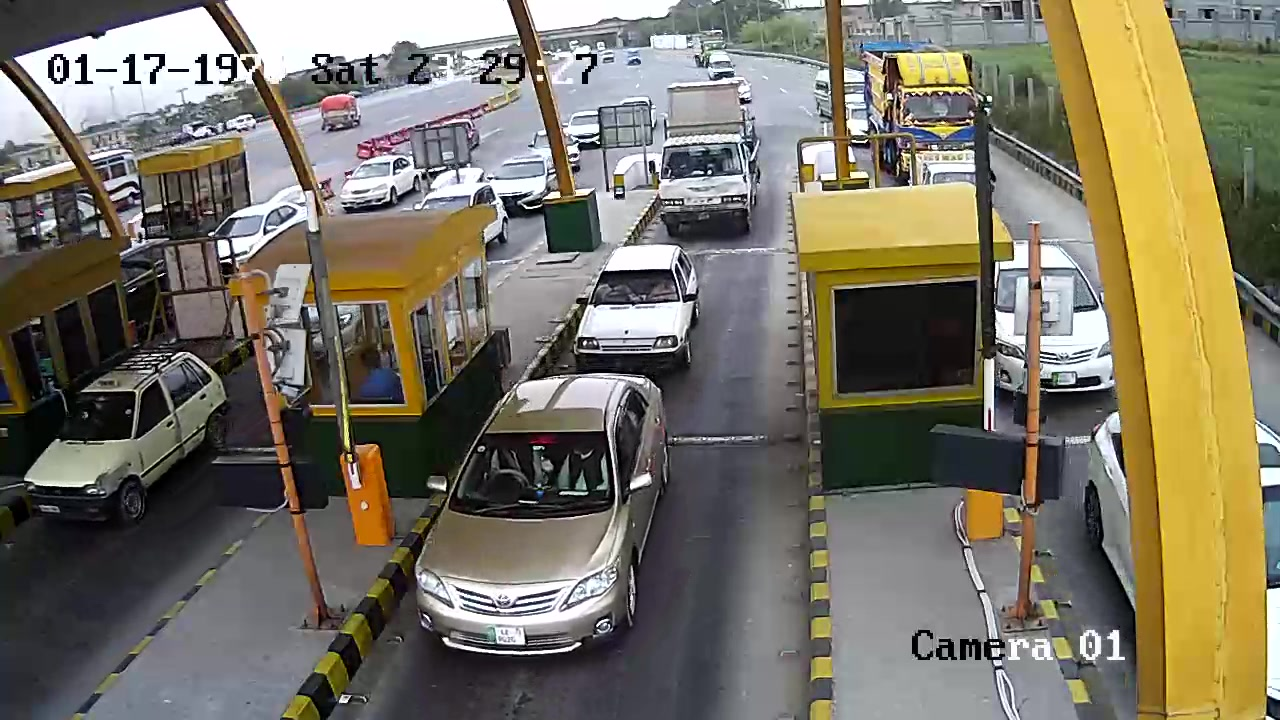F1: (408, 373, 689, 679)
